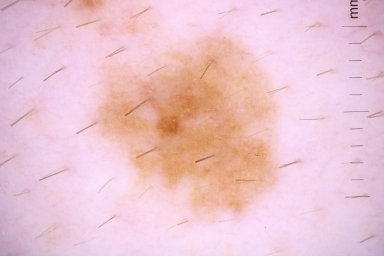melanoma: (105, 37, 276, 216)
